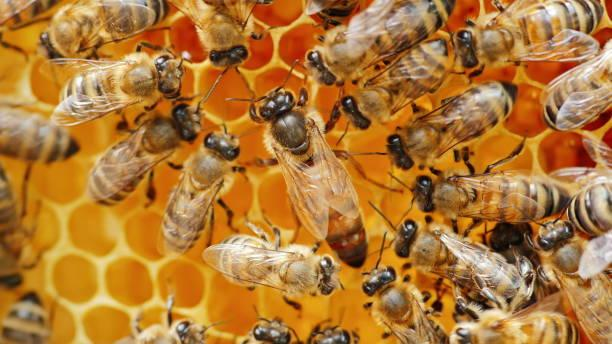Queen-Bee: (242, 84, 367, 266)
worker-bee: (412, 140, 570, 232), (394, 216, 534, 313), (304, 0, 454, 86), (202, 222, 341, 309), (86, 103, 201, 205), (45, 42, 184, 125), (451, 0, 604, 75), (387, 81, 517, 169), (528, 220, 611, 343), (340, 38, 452, 128), (161, 131, 243, 253), (362, 246, 447, 343), (39, 0, 168, 58), (450, 294, 579, 343)
